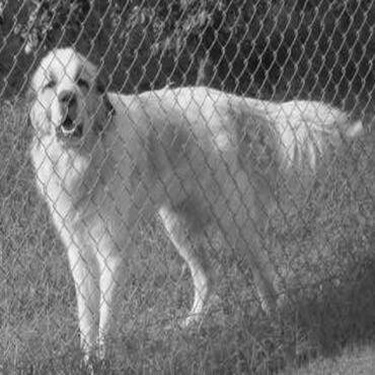dog: (2, 38, 370, 371)
